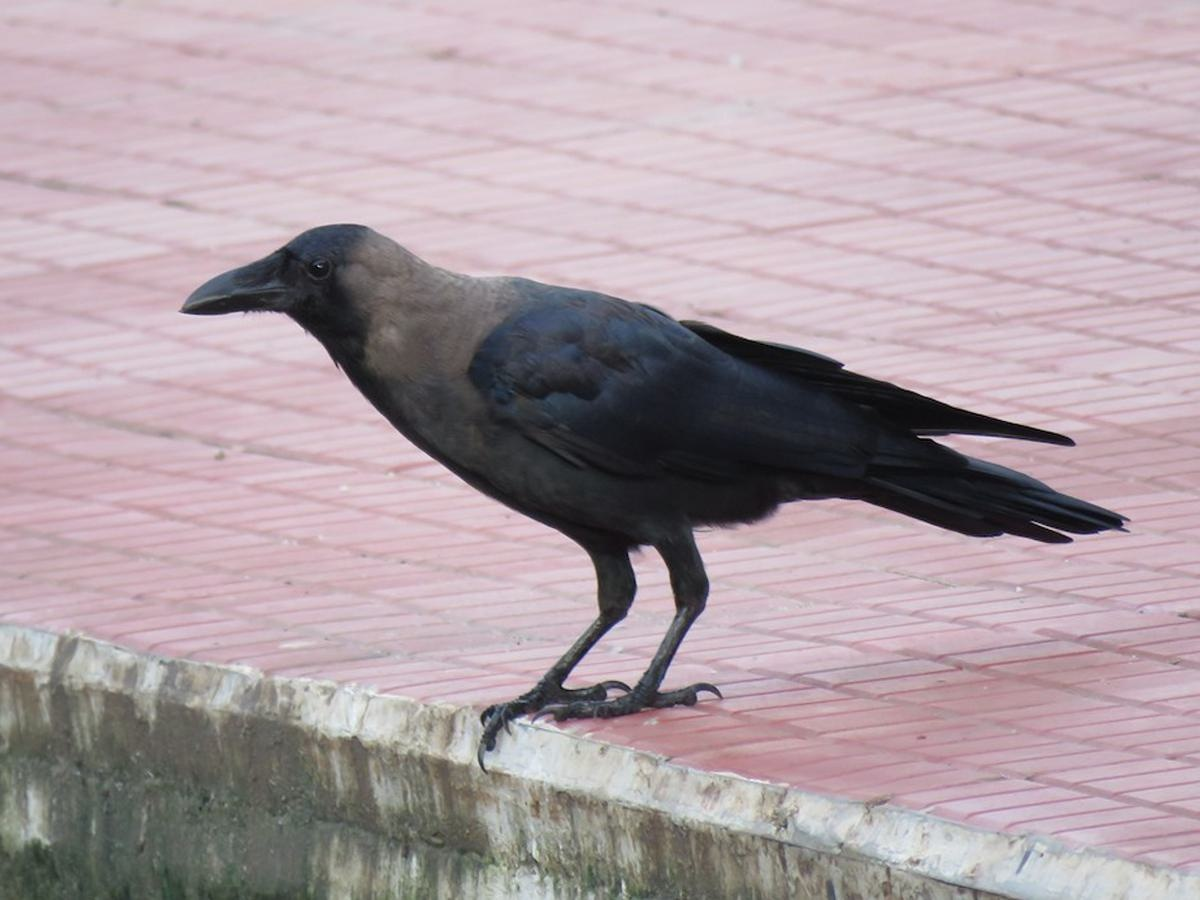crow: (187, 209, 1156, 742)
